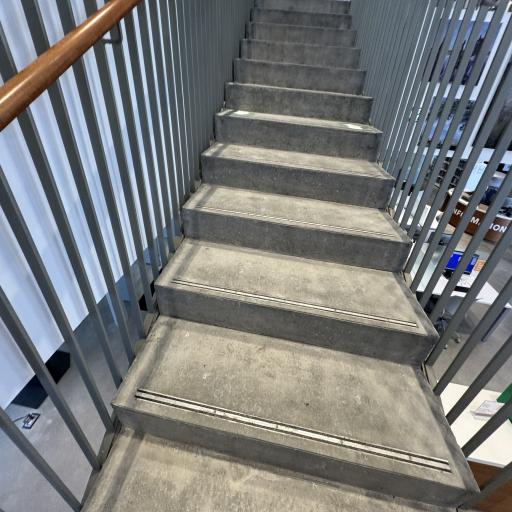Stairs: (84, 0, 478, 512), (113, 317, 472, 506), (155, 235, 438, 365), (84, 429, 454, 512), (182, 184, 412, 272), (201, 142, 395, 209), (216, 109, 382, 161), (226, 82, 372, 124), (234, 59, 366, 94), (241, 39, 360, 69), (247, 22, 356, 48), (252, 8, 351, 29), (255, 0, 350, 14)
